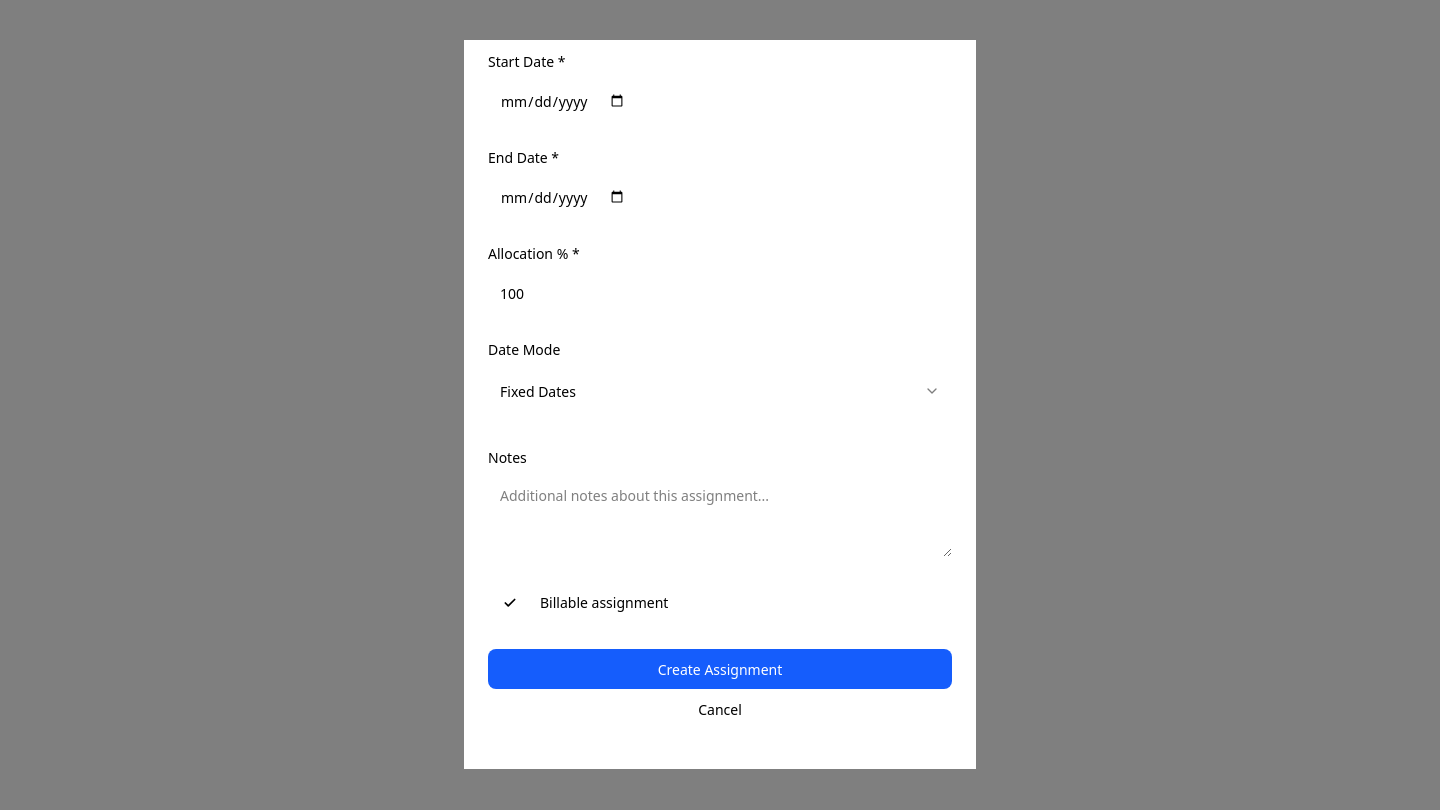
Test: AssignmentModalNew › Form Validation › shows error when submitting without person
(page scrolled)
Click the button "Create Assignment". click: [720, 670]
box: [488, 650, 952, 690]
(page scrolled)
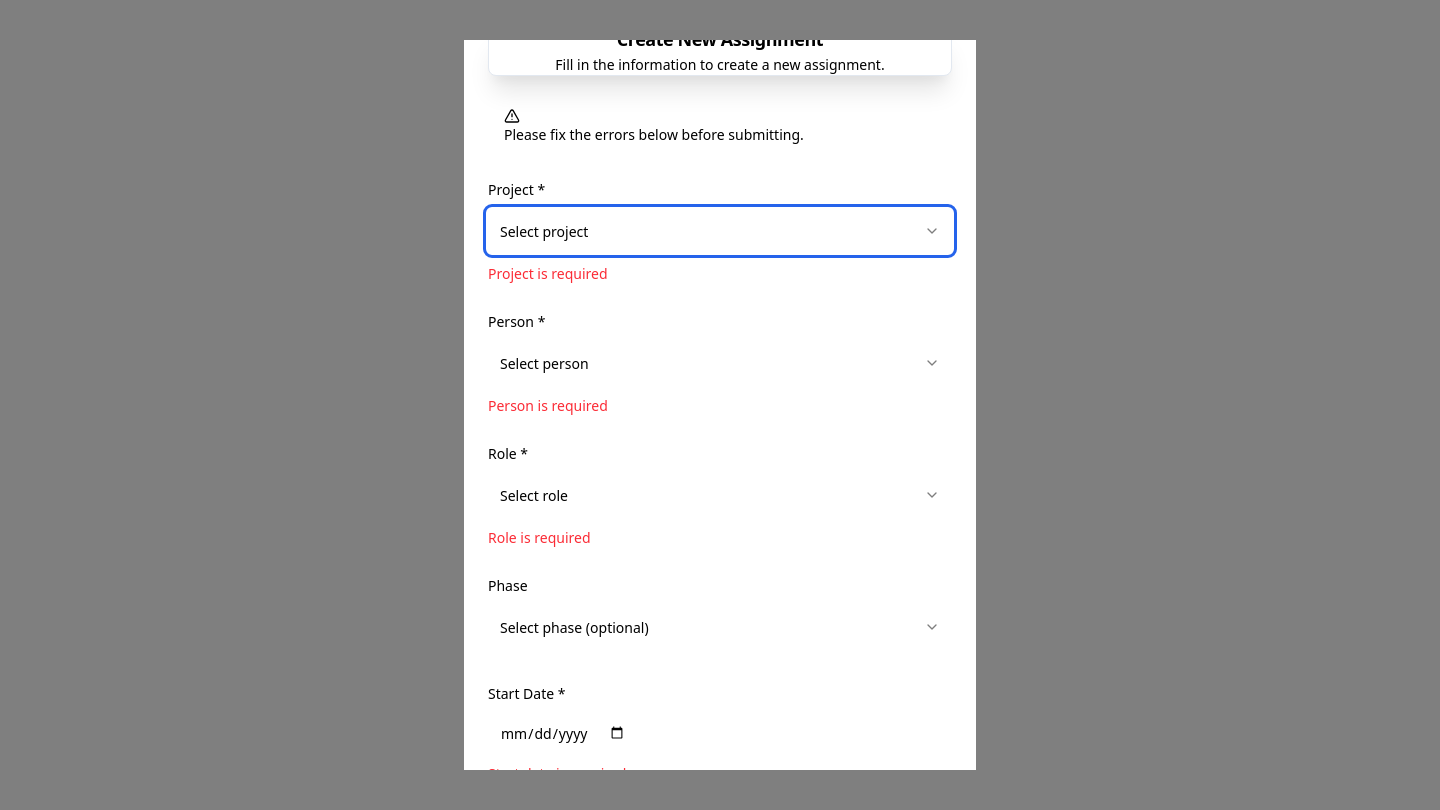
Expected: the text "Person is required" is shown, [488, 396, 608, 414]
